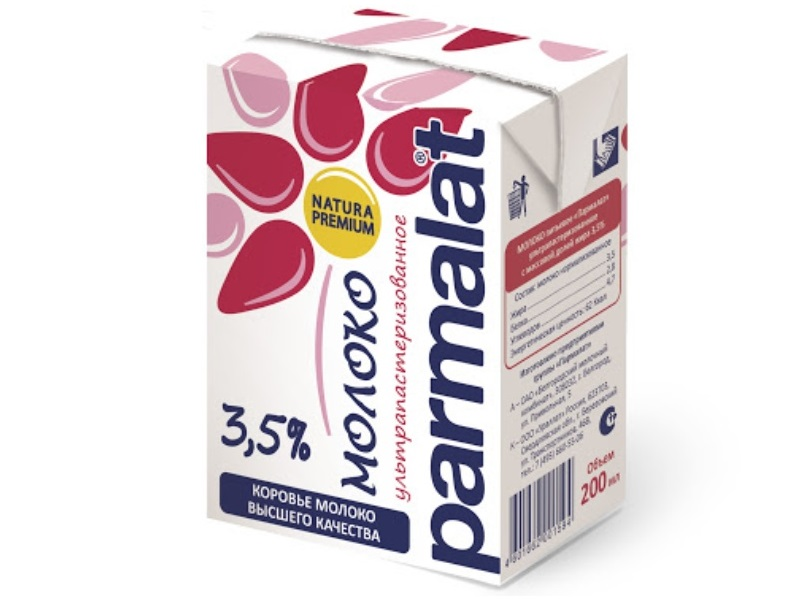milk: (166, 1, 677, 595)
